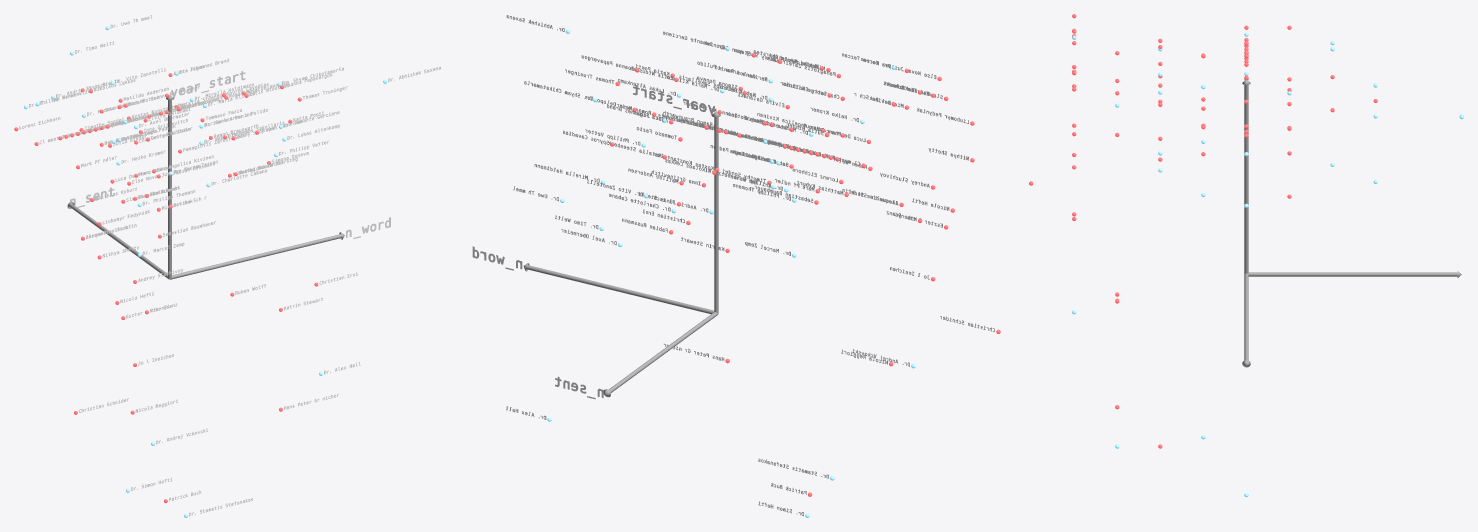
The model's file is d-one-team.glb.
3 renders of one model, left to right at view 1: azimuth 30°, elevation 25°; view 2: azimuth 150°, elevation 25°; view 3: azimuth 270°, elevation 25°, orthographic. The views are drawn at different scales.
Parts seen in each view (by area): view 1: arrow_n_word, arrow_year_start, arrow_n_sent; view 2: arrow_n_word, arrow_year_start, arrow_n_sent; view 3: arrow_n_sent, arrow_year_start.
Part boxes in pixels (x1,y1,x2,y2): arrow_n_word: (170, 232, 344, 279); arrow_year_start: (166, 95, 173, 278); arrow_n_sent: (67, 201, 169, 279); arrow_n_word: (523, 263, 714, 314); arrow_year_start: (712, 111, 720, 313); arrow_n_sent: (603, 312, 718, 397); arrow_n_sent: (1248, 271, 1461, 277); arrow_year_start: (1242, 79, 1250, 273).
Size of what is drawn, in the model's own units: 0.2333 by 0.2053 by 0.202.
57 materials, 54 textured.
